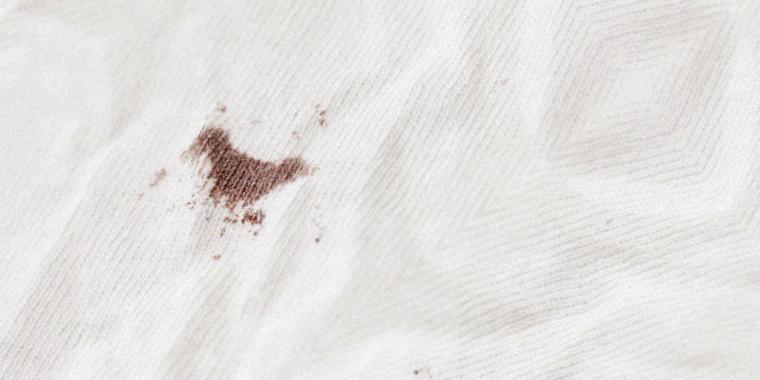stain: (184, 117, 318, 229)
